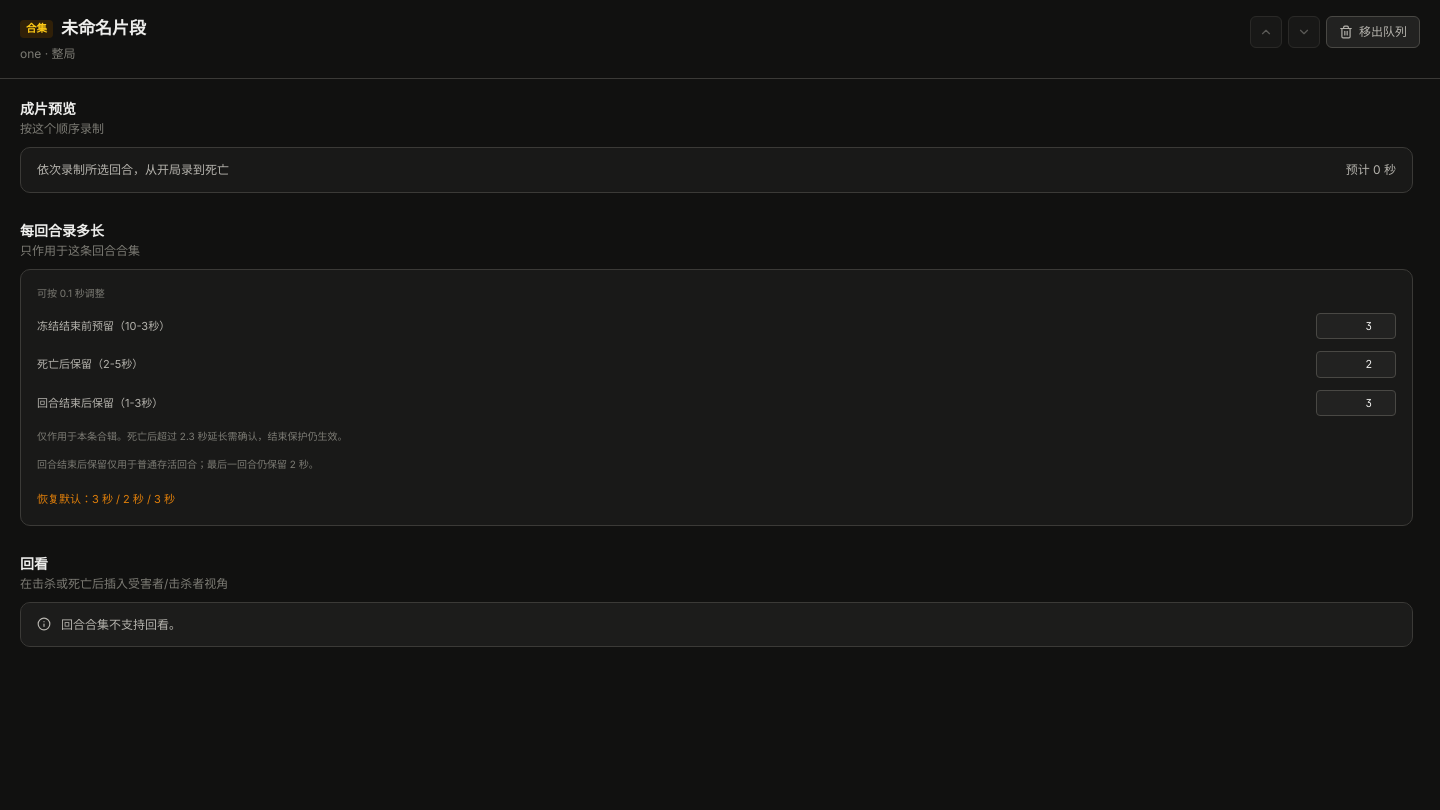
Test case: 2.3 seconds needs no warning; extending past it waits for explicit confirmation
Replace the text in the number field labelled "死亡后保留（2-5秒）" with "2.3" at (1356, 364), box [1316,351,1396,378]
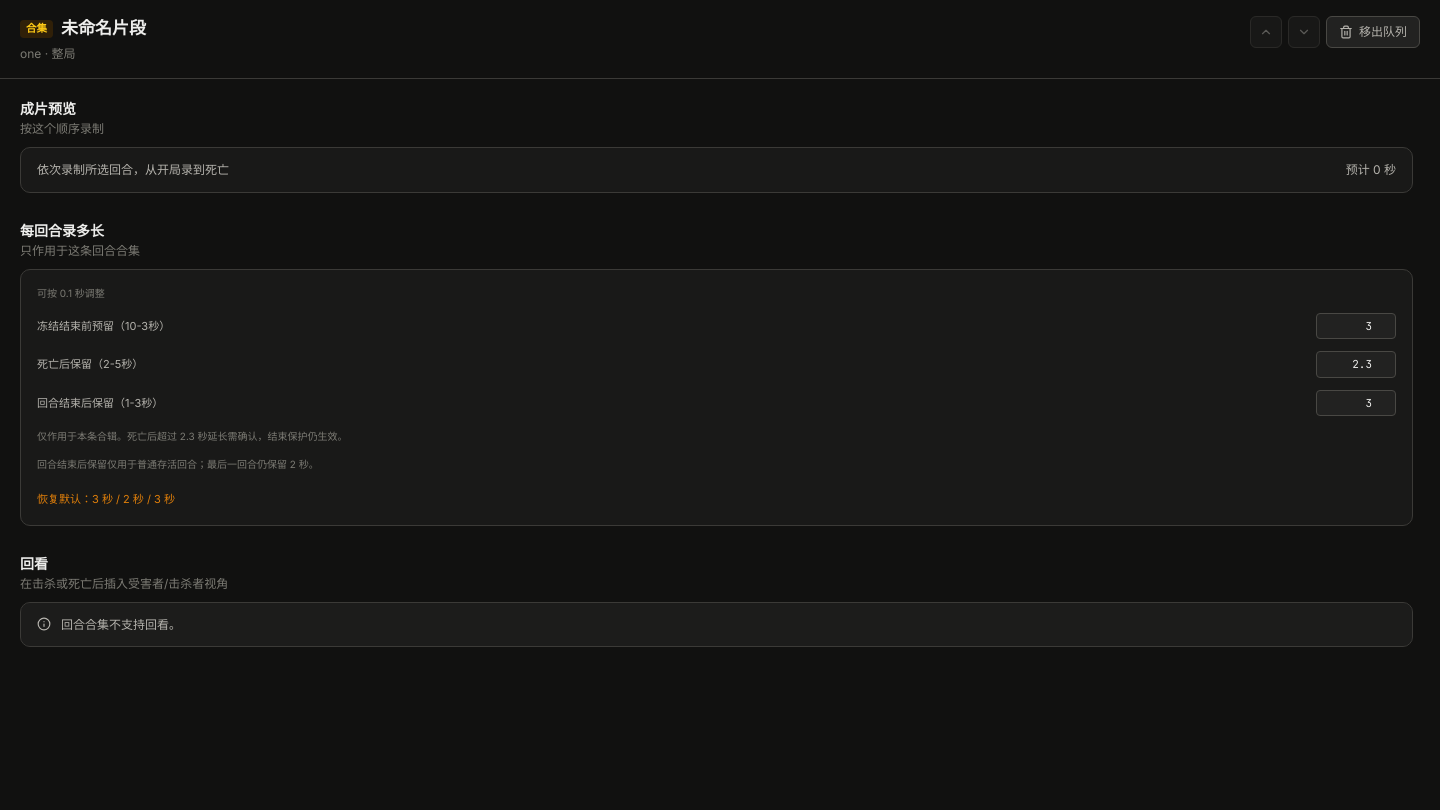
Replace the text in the number field labelled "死亡后保留（2-5秒）" with "2.4" at (1356, 364), box [1316,351,1396,378]
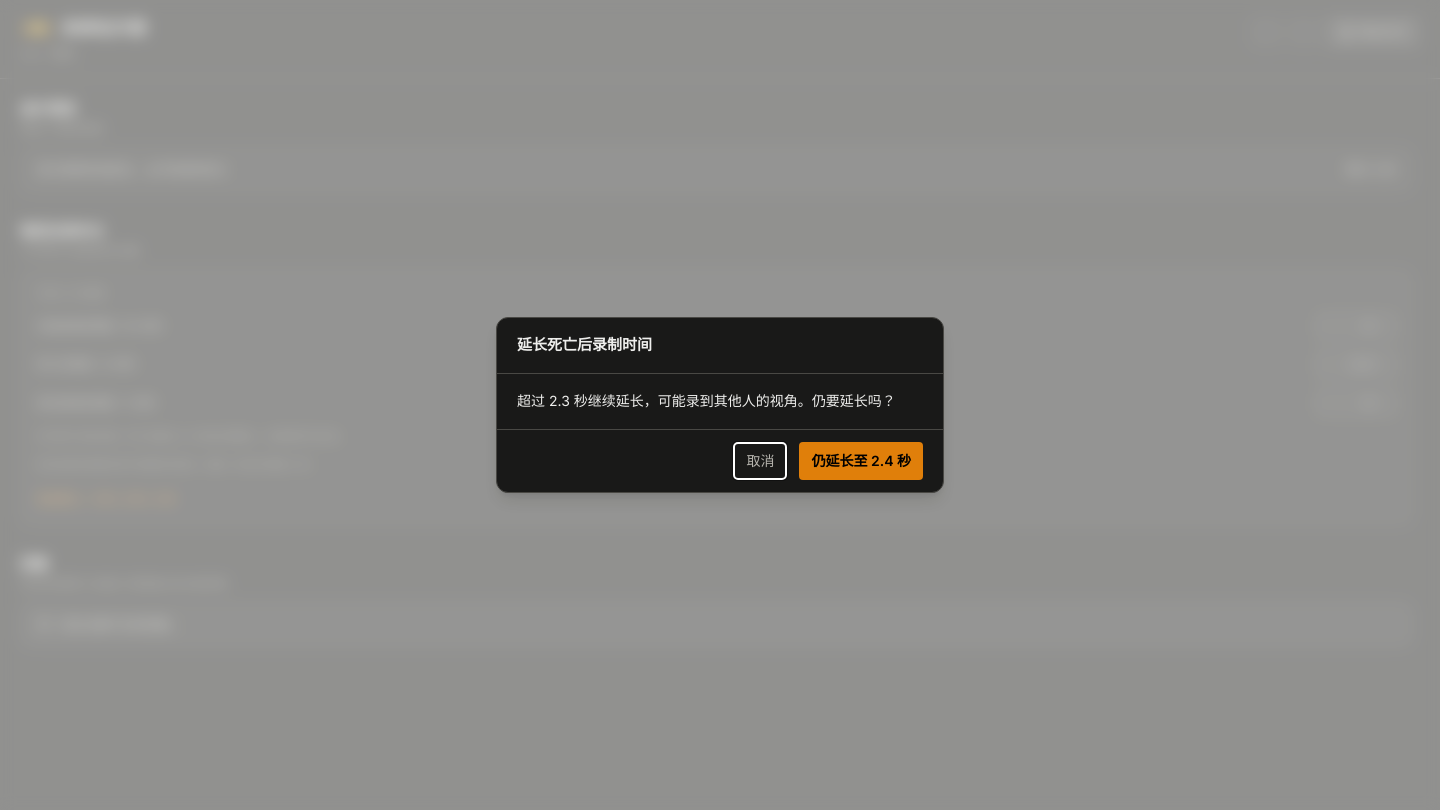
Result: the dialog is shown
Result: the text "超过 2.3 秒继续延长，可能录到其他人的视角。仍要延长吗？" is shown at [517,390,923,413]
Click the button "取消" at (760, 461), box [733,442,787,480]
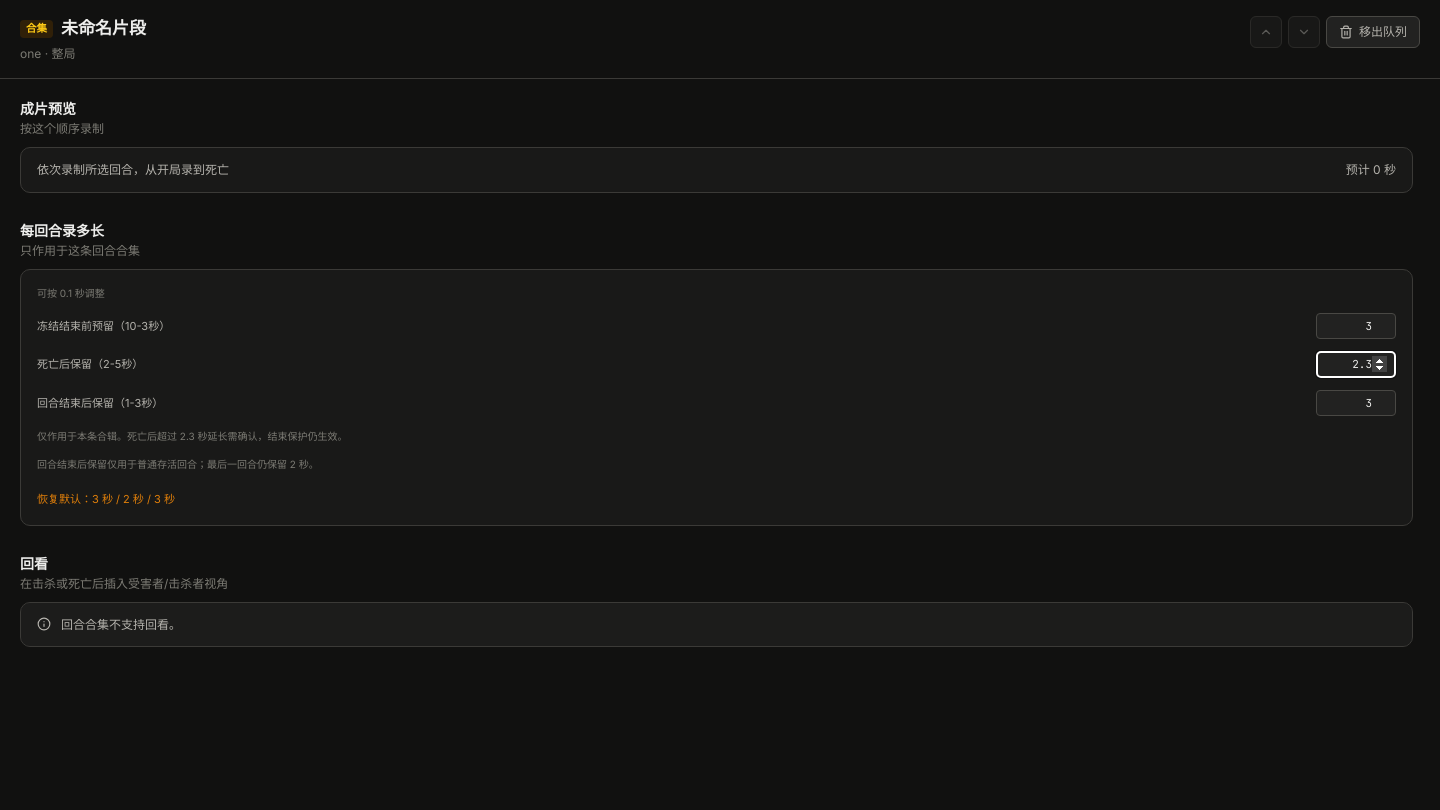
Result: the dialog is gone
Replace the text in the number field labelled "死亡后保留（2-5秒）" with "5" at (1356, 364), box [1316,351,1396,378]
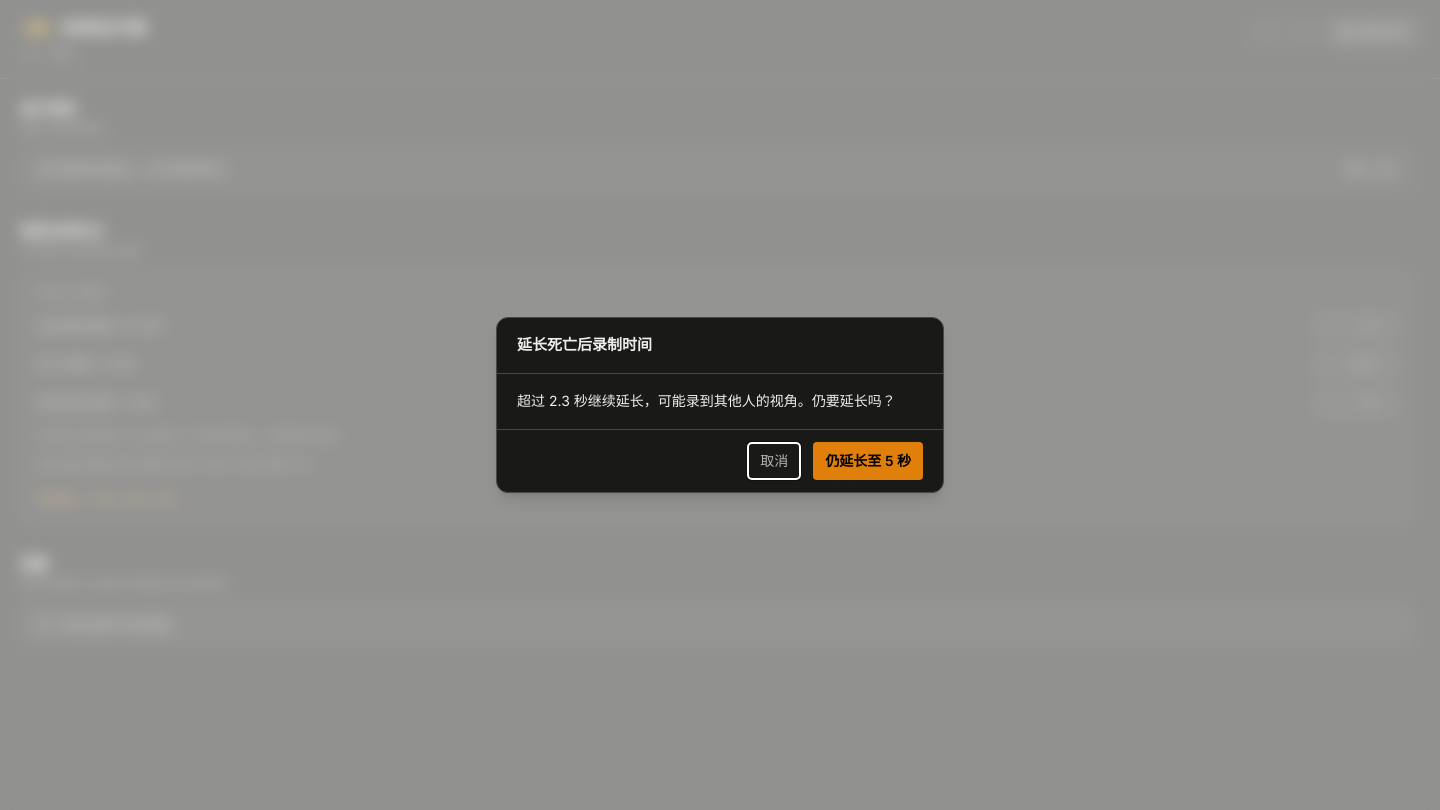
Click the button "仍延长至 5 秒" at (868, 461), box [813,442,923,480]
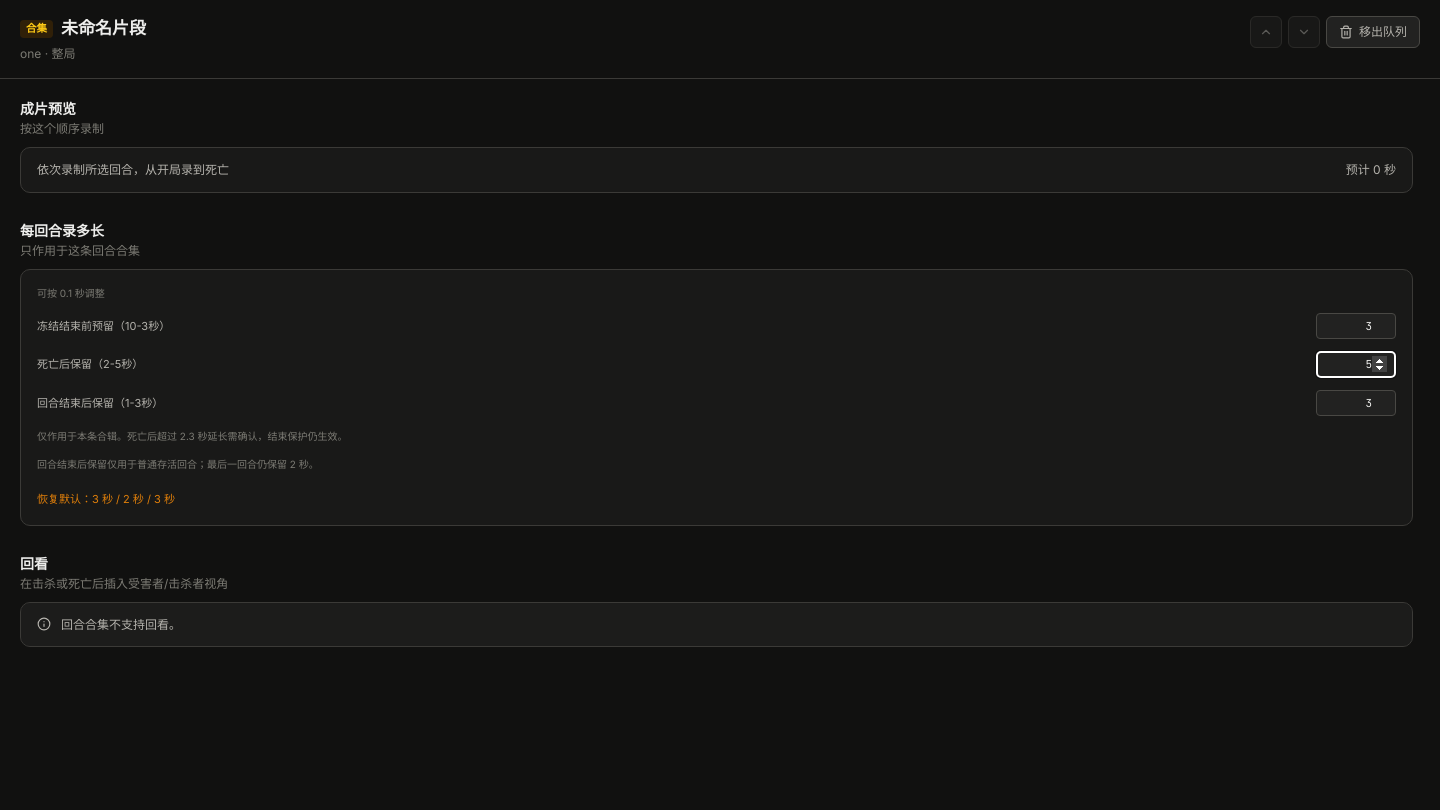
Result: the dialog is gone
